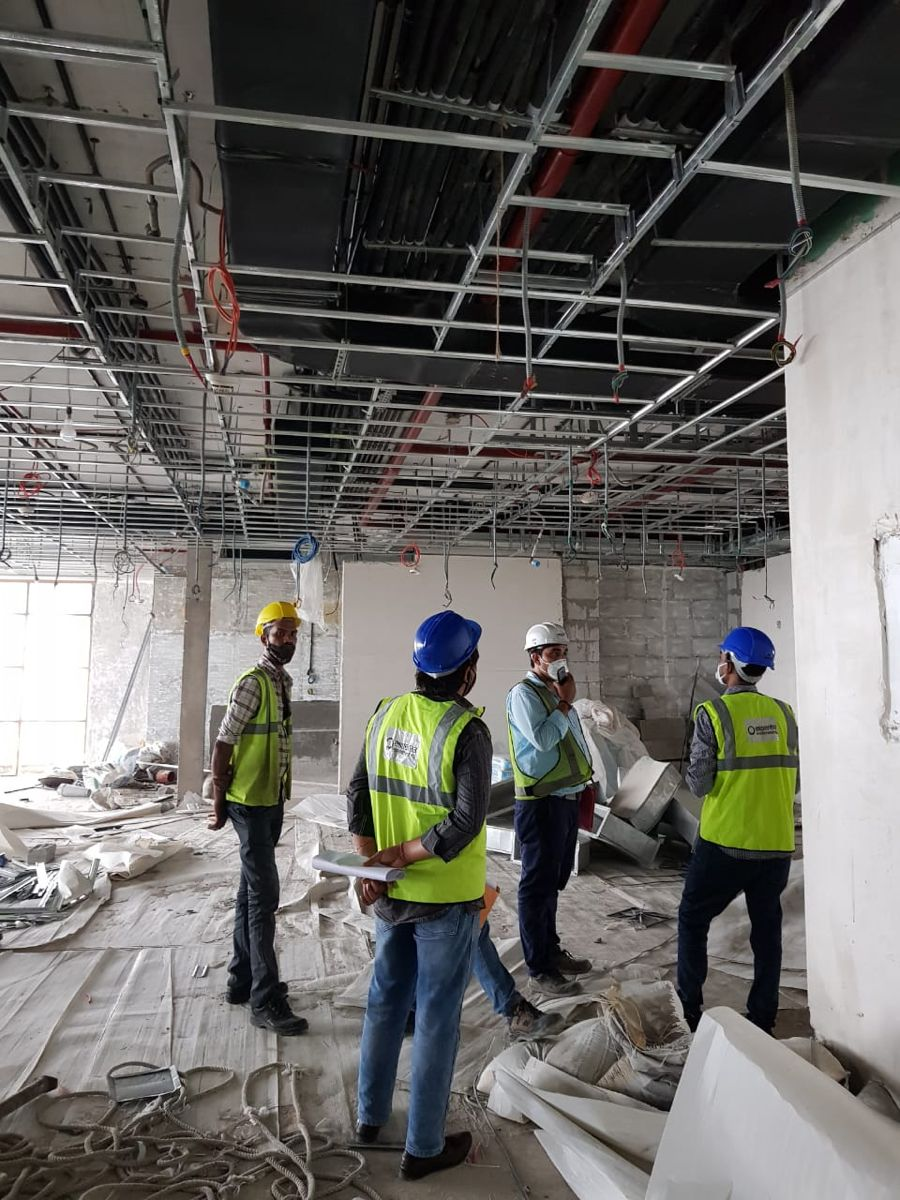hardhat: (398, 603, 479, 675), (711, 621, 791, 662), (521, 619, 580, 669), (249, 585, 307, 626)
person: (345, 587, 500, 1175), (653, 610, 828, 1069), (210, 587, 329, 1053), (500, 620, 617, 1048)
safety_vest: (363, 674, 484, 904), (696, 686, 806, 871), (512, 692, 587, 807), (233, 664, 291, 803)
